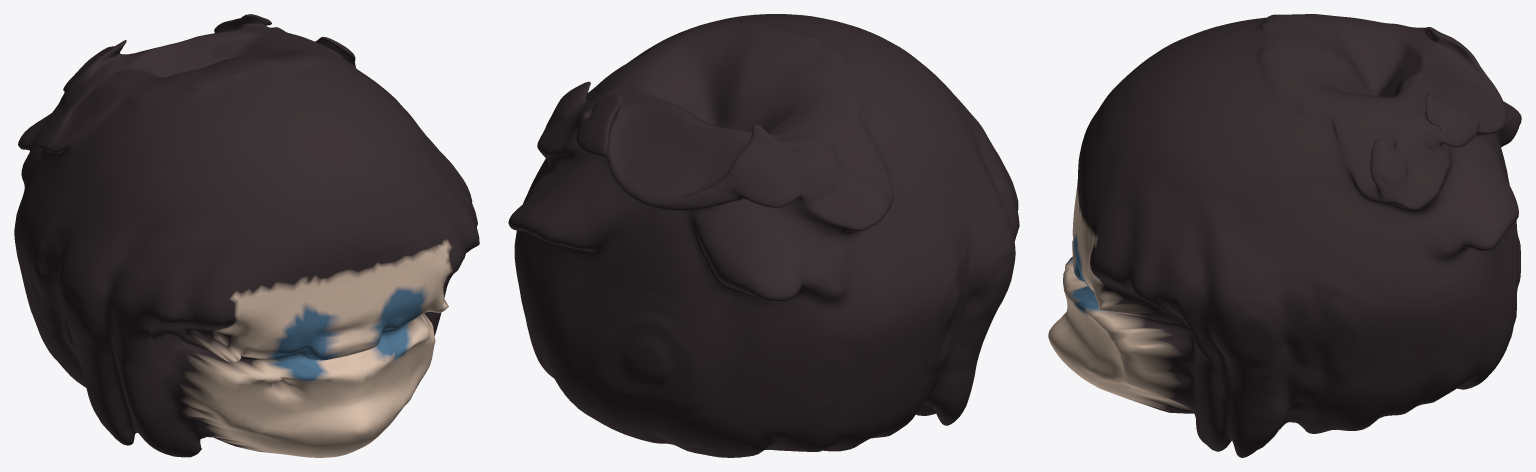
Rendered from head.glb.
3 renders of one model, left to right at view 1: azimuth 30°, elevation 25°; view 2: azimuth 150°, elevation 25°; view 3: azimuth 270°, elevation 25°, orthographic. The views are drawn at different scales.
Visible parts, largest first — view 1: geometry_0; view 2: geometry_0; view 3: geometry_0.
Part boxes in pixels (<box>): geometry_0: <box>14,14,479,457</box>; geometry_0: <box>508,14,1019,457</box>; geometry_0: <box>1048,14,1521,457</box>.
Bounding box in the file's own units: 0.7992 × 0.6649 × 0.7949.
